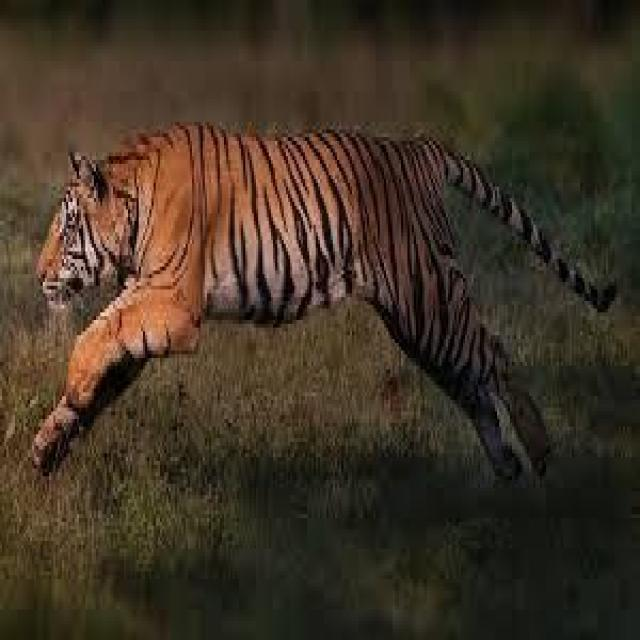Tiger: (22, 68, 609, 522)
